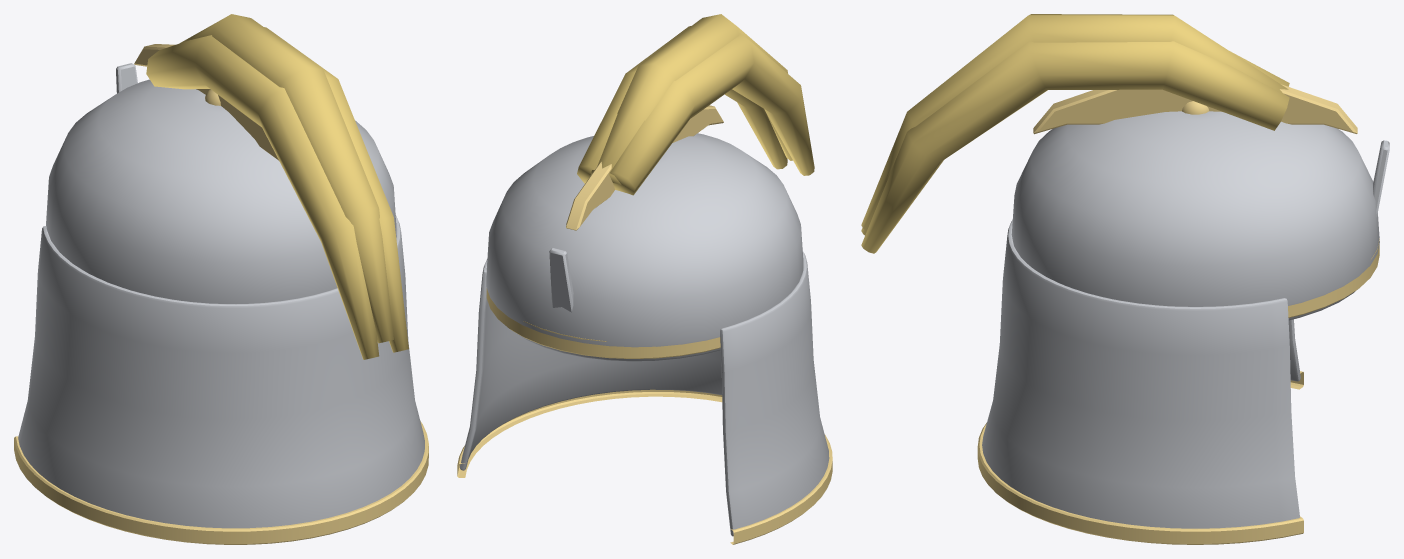
File: helm_ritter2.glb
3 views of the same model, side by side, from view 1: azimuth 30°, elevation 25°; view 2: azimuth 150°, elevation 25°; view 3: azimuth 270°, elevation 25° (orthographic). The views are drawn at different scales.
Parts seen in each view (by area): view 1: G_helm_ritter2; view 2: G_helm_ritter2; view 3: G_helm_ritter2.
Part boxes in pixels (box(x1,y1,x2,y2)): G_helm_ritter2: box(14, 14, 428, 544); G_helm_ritter2: box(457, 14, 832, 544); G_helm_ritter2: box(861, 14, 1389, 544).
Bounding box in the file's own units: 0.284 × 0.3456 × 0.3721.
